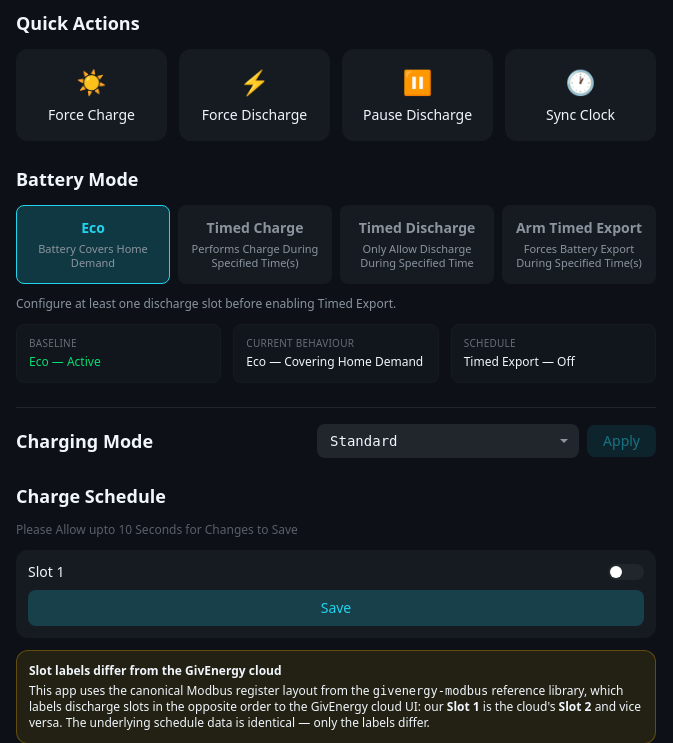
Test: <ControlPage/> — connection-state gate › restores Force Discharge after an API error
This screenshot has width=673, height=743.
Click the button "⚡ Force Discharge": (254, 95) [179,49,330,140]
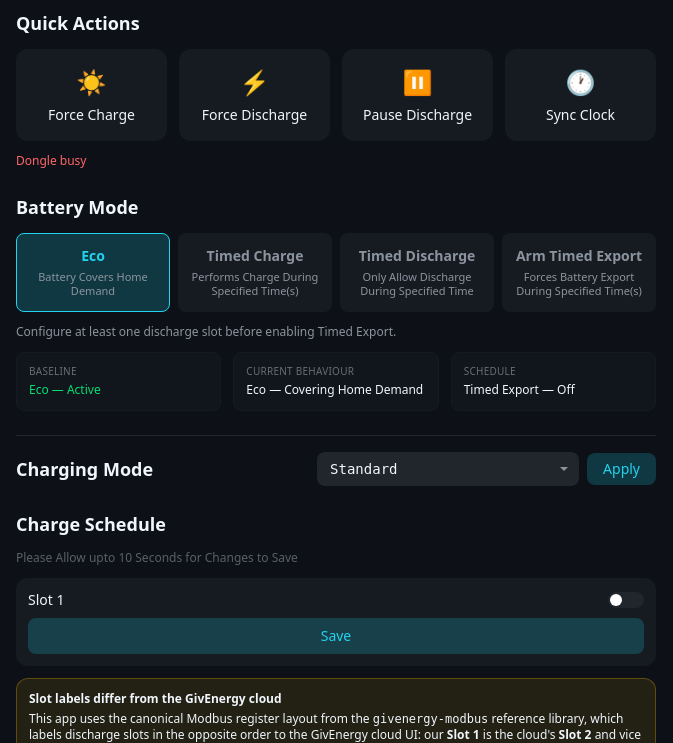
Expected: the button "☀️ Force Charge" is enabled, [16,49,167,140]
Now the message "Dongle busy" is shown, box [16,152,86,168]
